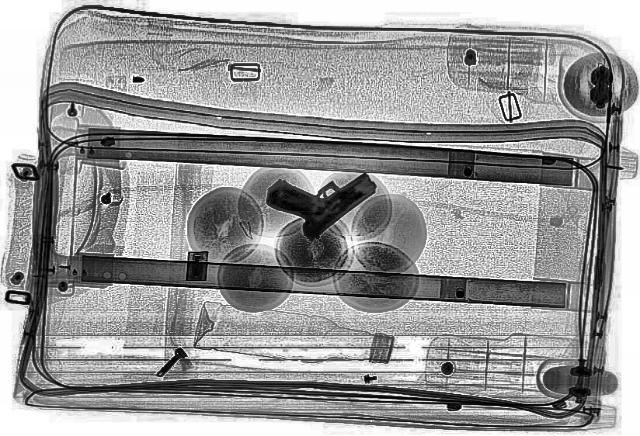Gun: (243, 145, 391, 239)
